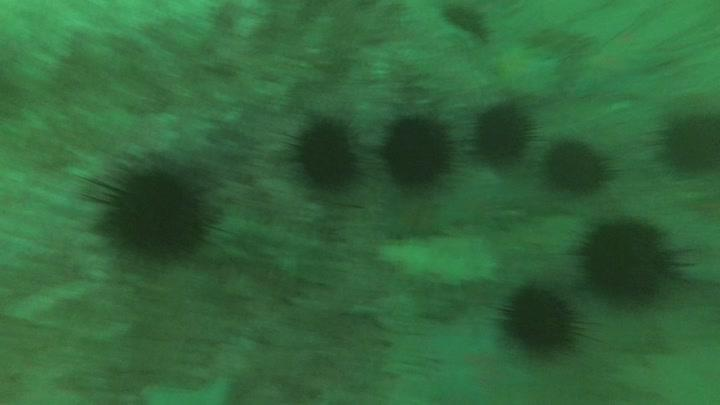urchin: (81, 160, 208, 270), (573, 210, 689, 307), (502, 281, 593, 366), (380, 107, 457, 194), (292, 109, 366, 195), (540, 129, 615, 199), (653, 105, 720, 183), (467, 99, 536, 173), (439, 5, 492, 41)
